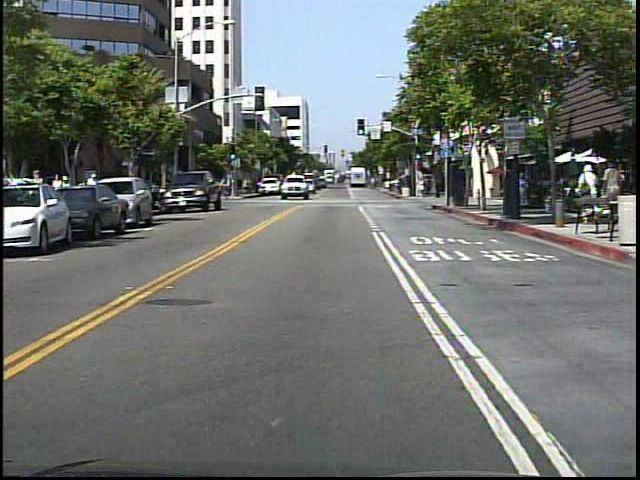person: (593, 158, 624, 226), (508, 169, 531, 214), (222, 174, 234, 201), (417, 178, 428, 200)
